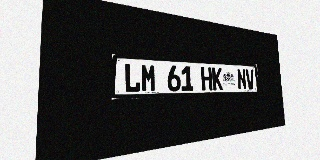1: (180, 66, 194, 91)
6: (167, 65, 181, 91)
H: (201, 67, 213, 91)
K: (212, 67, 223, 90)
L: (124, 63, 141, 93)
M: (141, 64, 156, 92)
N: (237, 68, 247, 90)
V: (245, 69, 255, 89)
